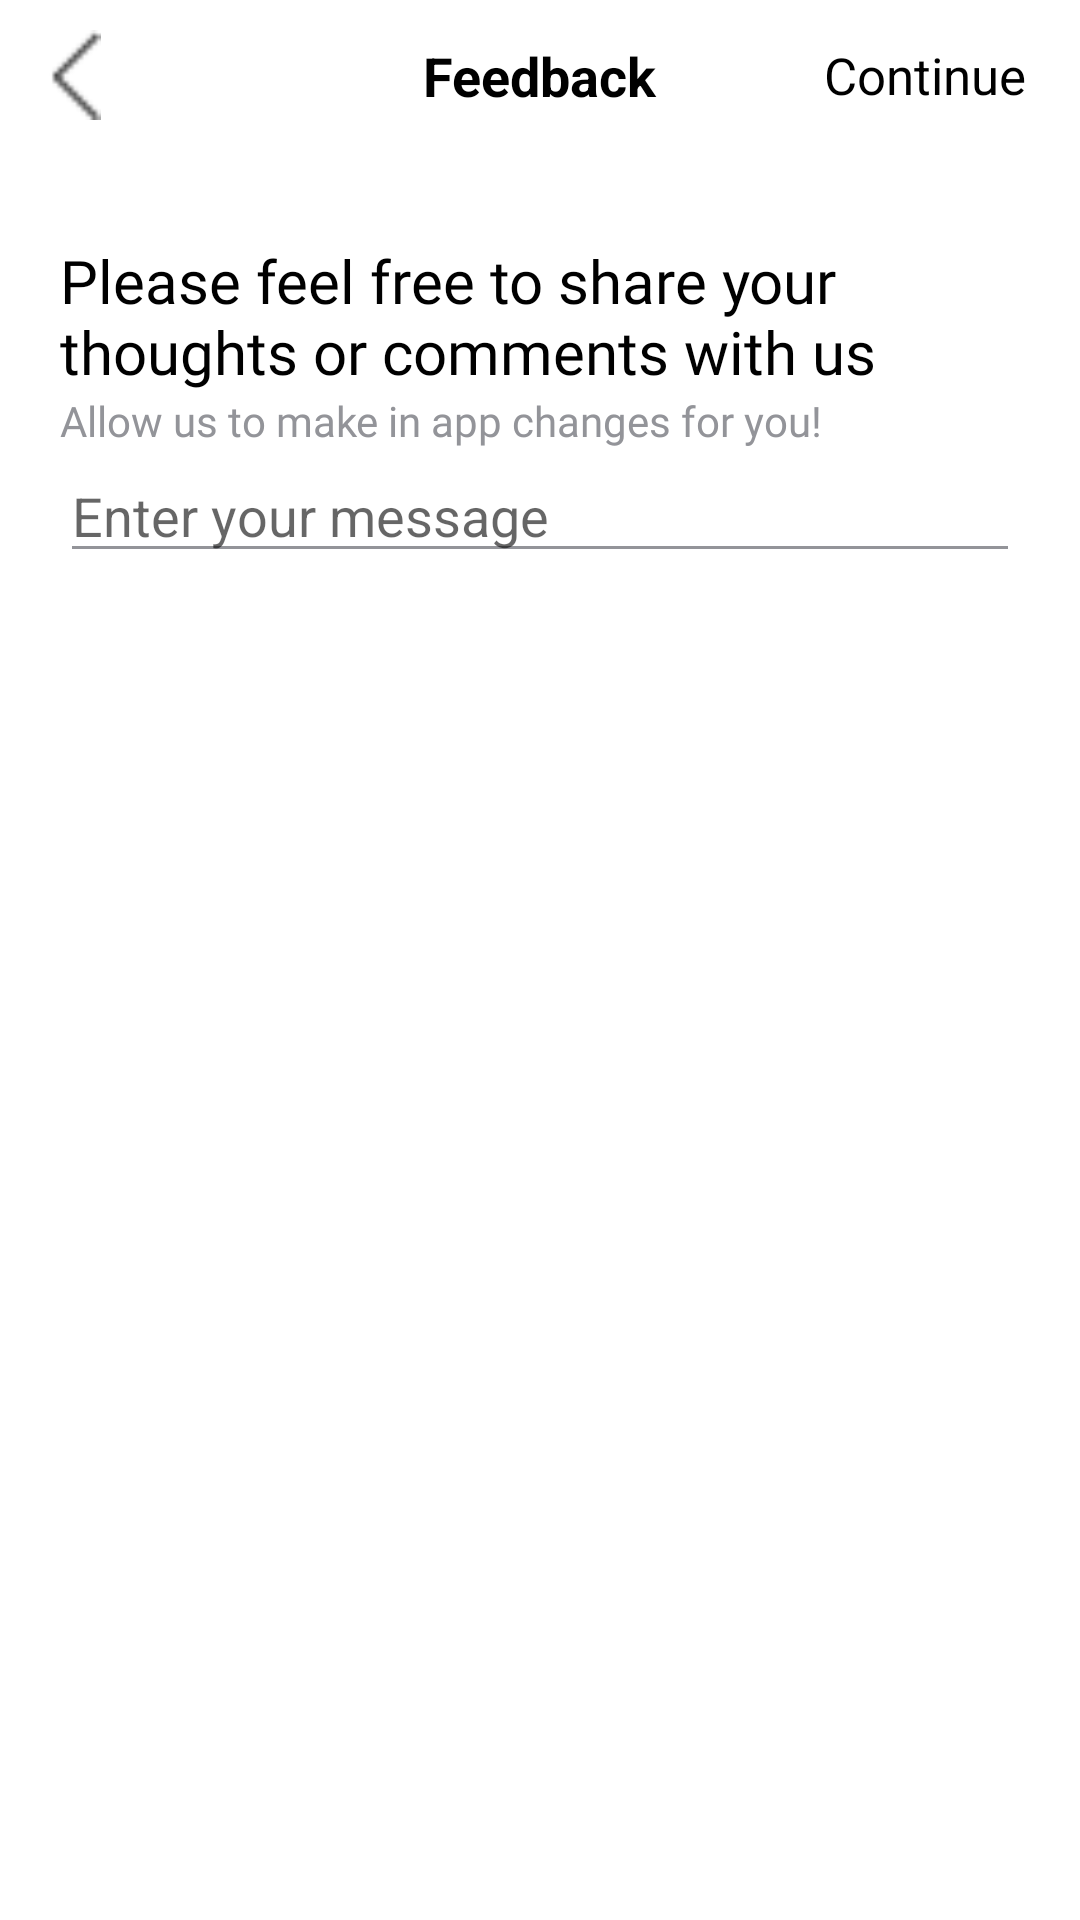

Point at icon controls on the screen. Image size 1080×1920, points as (x,y).
left arrow: (76,76)
